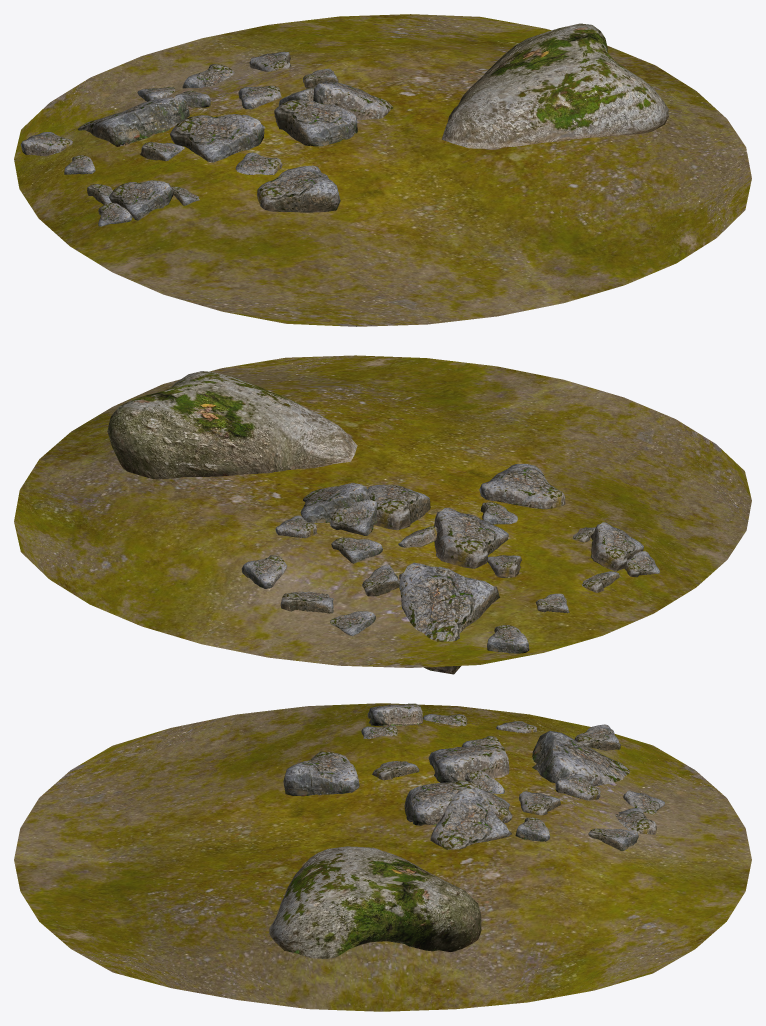
The model's file is Hoikansaari.gltf.
3 views of the same model, one above another, from view 1: azimuth 30°, elevation 25°; view 2: azimuth 150°, elevation 25°; view 3: azimuth 270°, elevation 25° (orthographic). The views are drawn at different scales.
Parts seen in each view (by area): view 1: Plane, Rock-21, Rock-14.015, Rock-14, Rock-14.012, Rock-14.011, Rock-14.010, Rock-14.018, Rock-14.001, Rock-14.013, Rock-14.005, Rock-14.006 (+3 smaller); view 2: Plane, Rock-21, Rock-14, Rock-14.015, Rock-14.012, Rock-14.011, Rock-14.010, Rock-14.018, Rock-14.009, Rock-14.007, Rock-14.006, Rock-14.001 (+8 smaller); view 3: Plane, Rock-21, Rock-14, Rock-14.010, Rock-14.012, Rock-14.015, Rock-14.011, Rock-14.018, Rock-14.001, Rock-14.002, Rock-14.007, Rock-14.005 (+6 smaller).
Part boxes in pixels (bbox=[...]): Plane: bbox=[14, 14, 751, 326]; Rock-21: bbox=[441, 23, 669, 148]; Rock-14.015: bbox=[170, 114, 264, 162]; Rock-14: bbox=[78, 94, 189, 146]; Rock-14.012: bbox=[257, 165, 340, 212]; Rock-14.011: bbox=[274, 99, 357, 146]; Rock-14.010: bbox=[313, 81, 393, 120]; Rock-14.018: bbox=[109, 180, 173, 220]; Rock-14.001: bbox=[20, 132, 72, 156]; Rock-14.013: bbox=[235, 152, 282, 175]; Rock-14.005: bbox=[238, 85, 281, 109]; Rock-14.006: bbox=[182, 64, 234, 88]; Plane: bbox=[14, 355, 751, 667]; Rock-21: bbox=[107, 371, 357, 479]; Rock-14: bbox=[399, 562, 499, 674]; Rock-14.015: bbox=[433, 508, 508, 568]; Rock-14.012: bbox=[479, 463, 565, 509]; Rock-14.011: bbox=[367, 484, 430, 530]; Rock-14.010: bbox=[300, 483, 370, 522]; Rock-14.018: bbox=[590, 522, 643, 571]; Rock-14.009: bbox=[330, 500, 377, 535]; Rock-14.007: bbox=[241, 555, 287, 588]; Rock-14.006: bbox=[280, 591, 333, 613]; Rock-14.001: bbox=[487, 625, 529, 653]; Plane: bbox=[14, 703, 751, 1011]; Rock-21: bbox=[269, 846, 481, 958]; Rock-14: bbox=[532, 730, 629, 785]; Rock-14.010: bbox=[430, 788, 511, 849]; Rock-14.012: bbox=[283, 751, 359, 796]; Rock-14.015: bbox=[428, 744, 509, 782]; Rock-14.011: bbox=[404, 780, 477, 825]; Rock-14.018: bbox=[367, 703, 423, 726]; Rock-14.001: bbox=[574, 724, 620, 750]; Rock-14.002: bbox=[555, 774, 600, 800]; Rock-14.007: bbox=[588, 828, 638, 850]; Rock-14.005: bbox=[519, 791, 560, 815].
Bounding box in the file's own units: 3.72 × 0.6043 × 3.72.
Materials: 3 (3 with a texture image).
